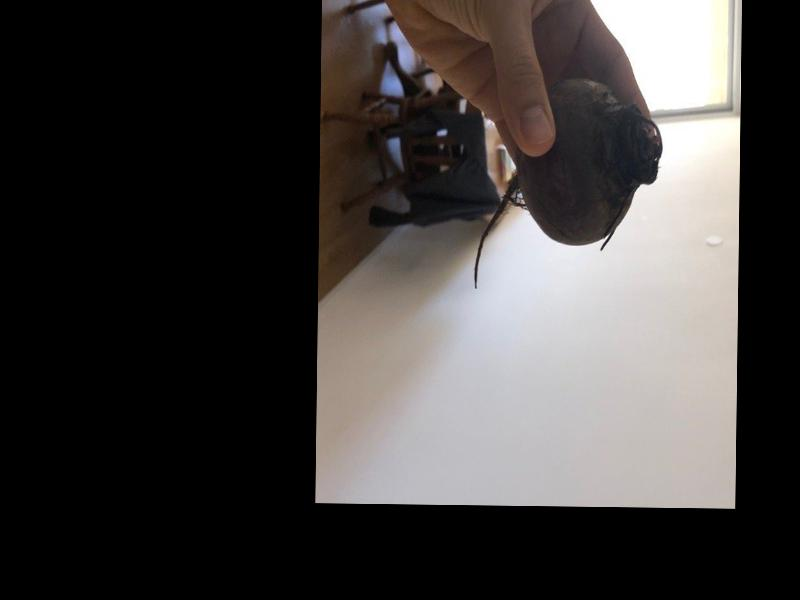Beet: (474, 77, 663, 291)
